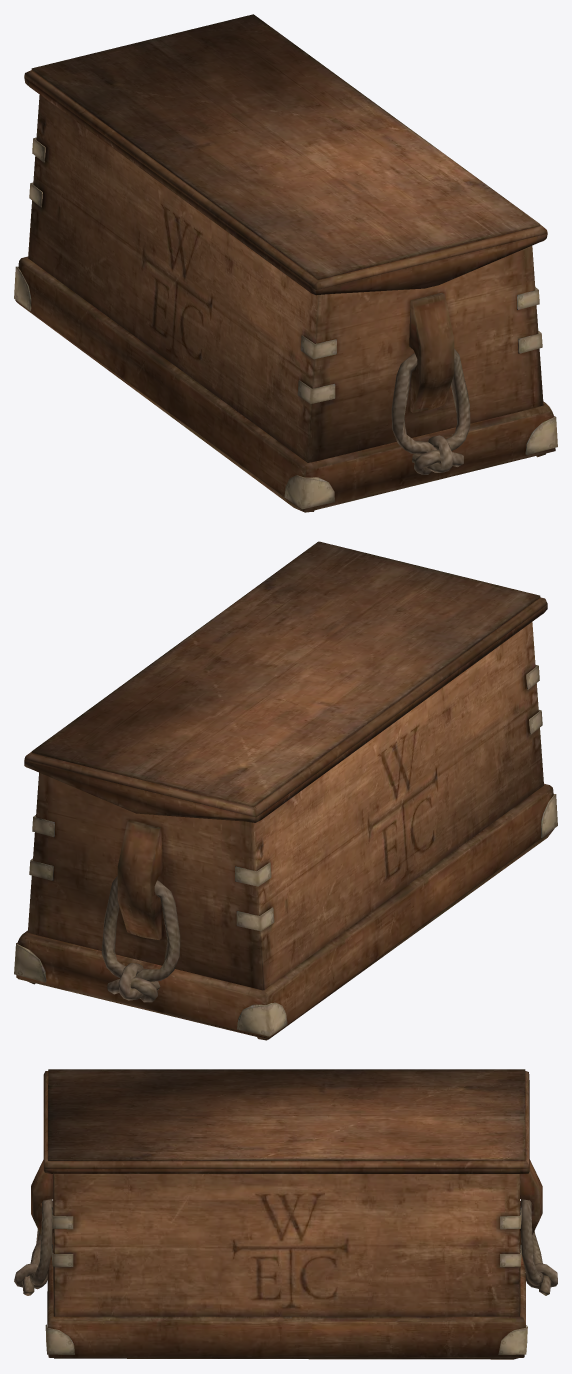
The model's file is wooden_crate_02.glb.
The picture shows the model from 3 angles, top to bottom: view 1: azimuth 30°, elevation 25°; view 2: azimuth 150°, elevation 25°; view 3: azimuth 270°, elevation 25°; orthographic projection. The views are drawn at different scales.
Visible parts, largest first — view 1: wooden_crate_02_crate; view 2: wooden_crate_02_crate; view 3: wooden_crate_02_crate.
Part boxes in pixels (x1,y1,x2,y2): wooden_crate_02_crate: (14,14,557,512); wooden_crate_02_crate: (14,541,557,1040); wooden_crate_02_crate: (14,1069,557,1359).
Size of the model in its own units: 0.5291 by 0.464 by 1.16.
1 material, 1 textured.
